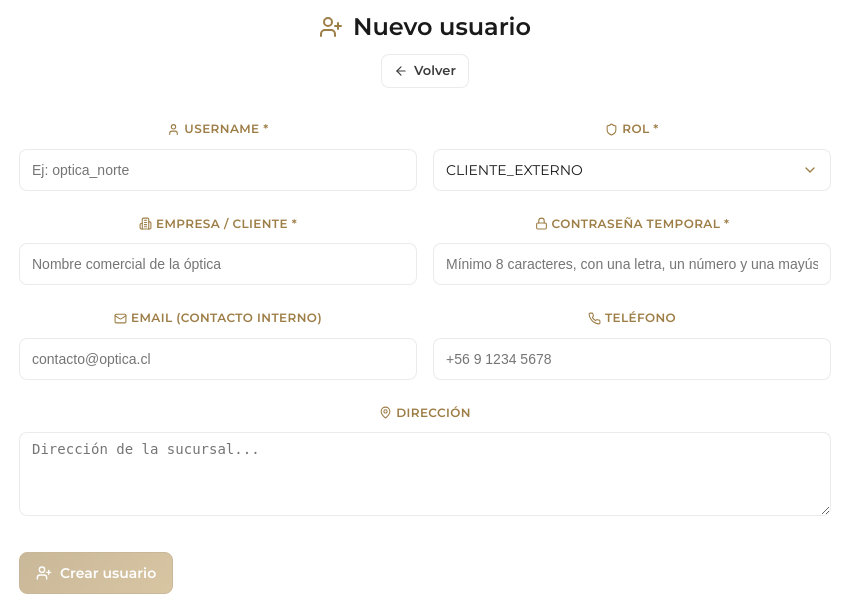
Test: F6.7 - UserFormPage (REM-2026-09) › alta: sin empresa para CLIENTE_EXTERNO el boton queda deshabilitado
Type "nuevo" into the field labelled "Username *".
click(218, 170); type("nuevo")  # box 19,148 -> 417,190
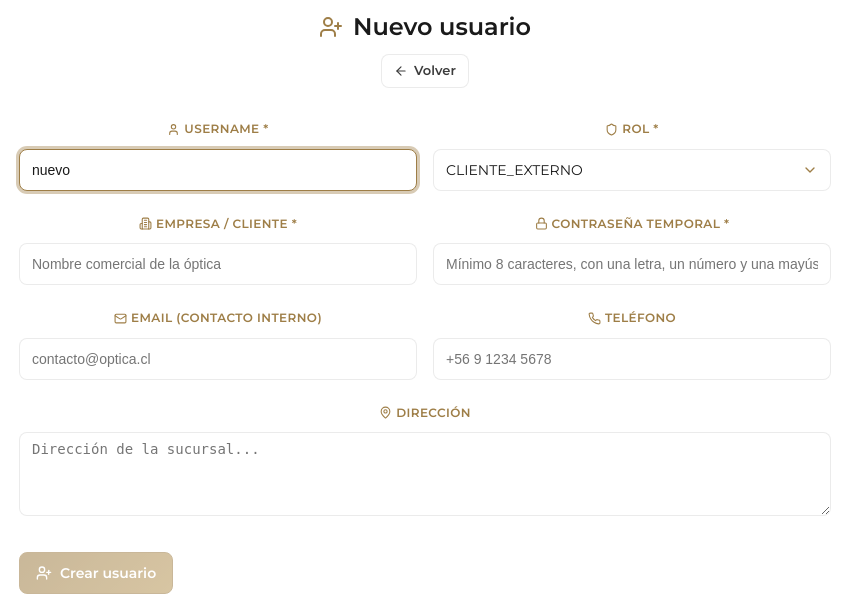
Type "Cambiar123!" into the password field labelled "Contraseña temporal *".
click(632, 264); type("Cambiar123!")  # box 433,243 -> 831,285
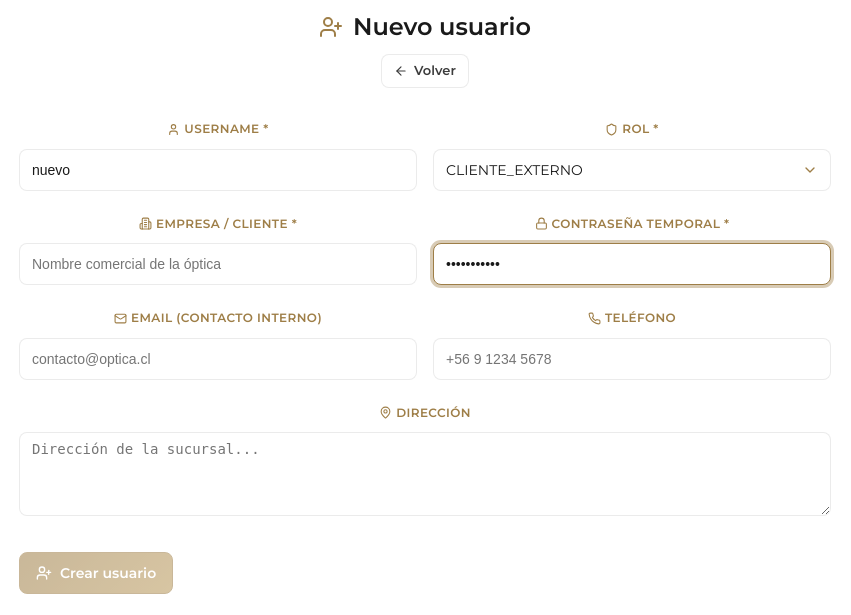
Check: the button "Crear usuario" is disabled, box 19,552 -> 173,594
Type "Optica Nueve" into the field labelled "Empresa / cliente *".
click(218, 264); type("Optica Nueve")  # box 19,243 -> 417,285
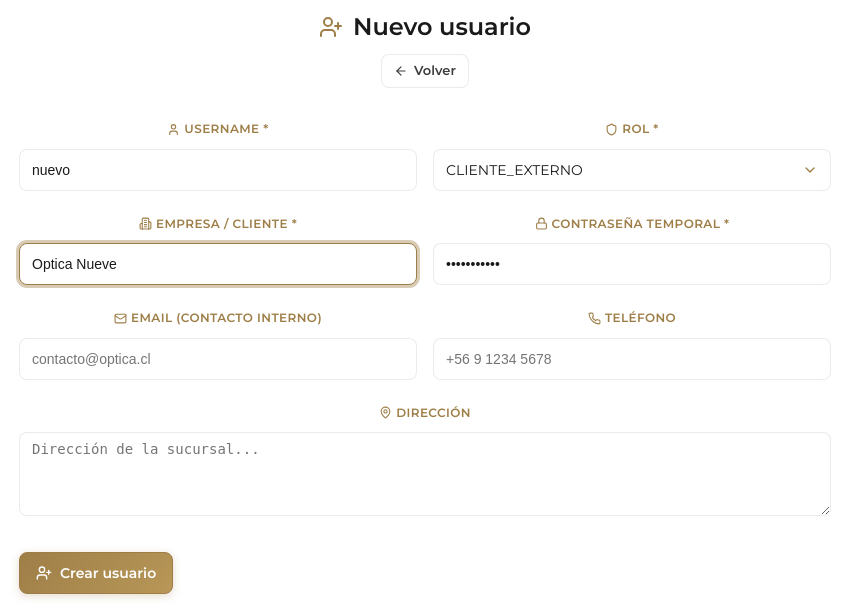
Check: the button "Crear usuario" is enabled, box 19,552 -> 173,594
